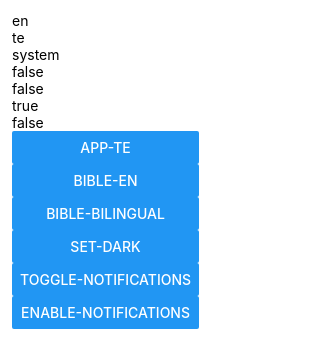
Test case: PreferencesContext › requests OS notification permission when the user turns notifications on
Expected: the text with test id "notifications" reads "false", [12,80,44,97]
Click the button with test id "enable-notifications" at point(106, 312), box [12,296,199,329]
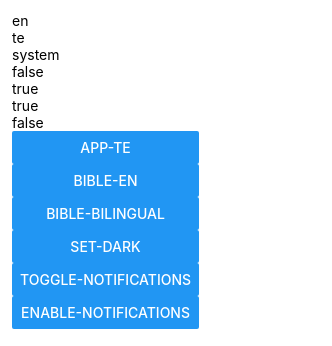
Now the text with test id "notifications" reads "true", box [12,80,38,97]
